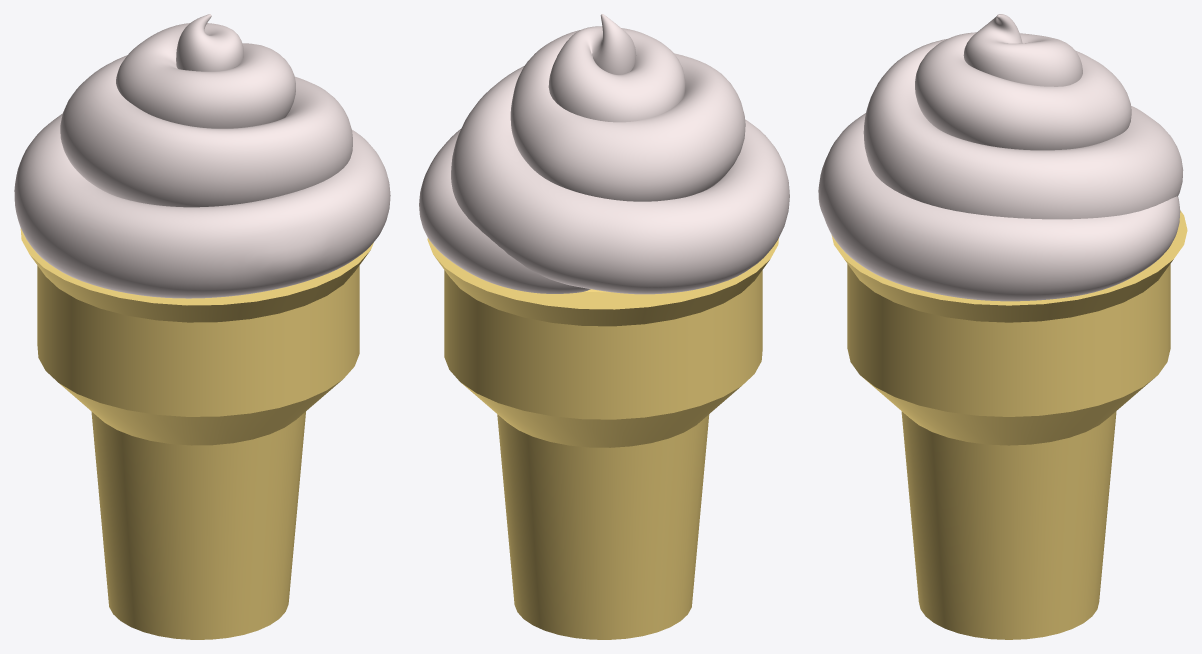
The model's file is soft_ice_cream.glb.
The picture shows the model from 3 angles, left to right: view 1: azimuth 30°, elevation 25°; view 2: azimuth 150°, elevation 25°; view 3: azimuth 270°, elevation 25°; orthographic projection.
Visible parts, largest first — view 1: Circle.2251; view 2: Circle.2251; view 3: Circle.2251.
Part boxes in pixels (<box>): Circle.2251: <box>14,14,390,639</box>; Circle.2251: <box>419,14,789,639</box>; Circle.2251: <box>818,14,1187,639</box>.
Size of the model in its own units: 1.32 by 2.3 by 1.3.
Materials: 1 (1 with a texture image).
